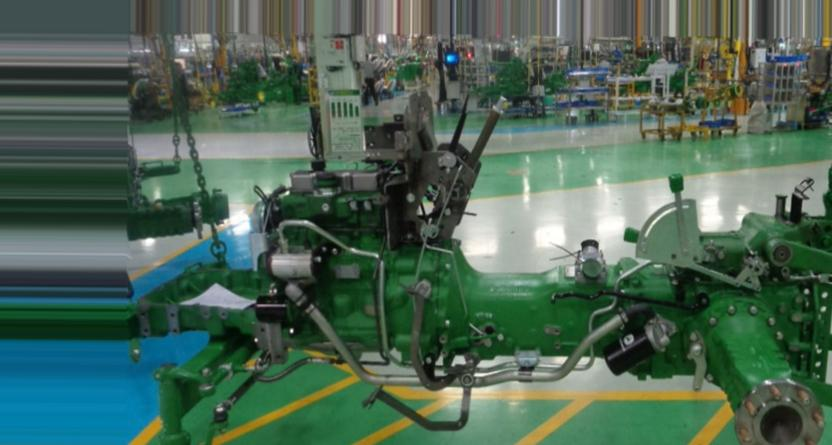engine: (138, 94, 832, 445)
